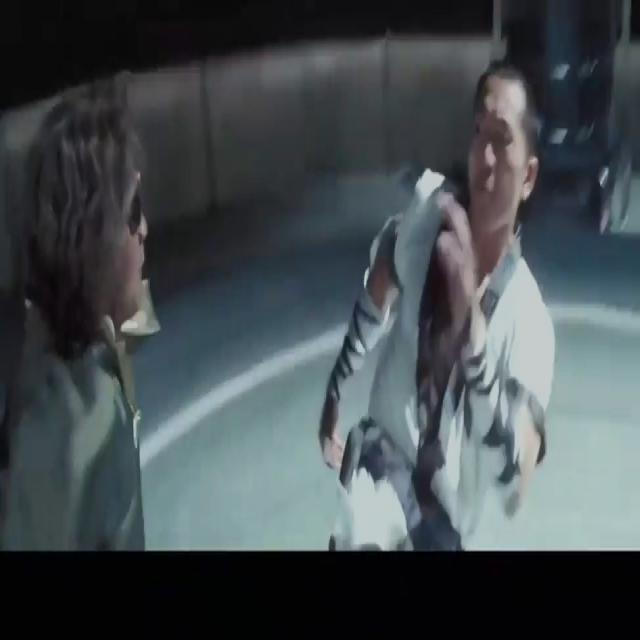fight: (0, 11, 574, 556)
